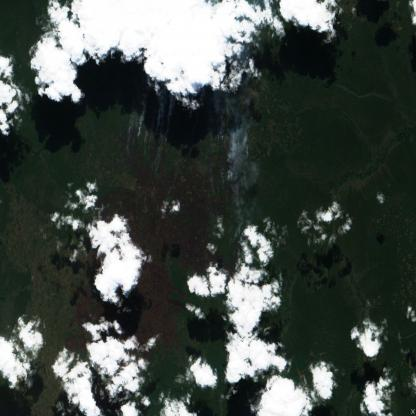fire: (205, 114, 254, 196), (124, 112, 171, 176), (225, 214, 256, 244)
